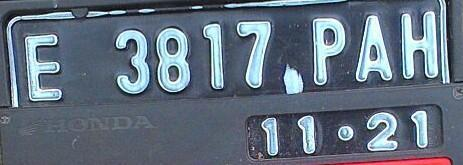1: (194, 18, 241, 93)
3: (106, 27, 152, 97)
7: (228, 18, 280, 92)
8: (152, 25, 198, 96)
A: (351, 13, 399, 82)
E: (22, 26, 68, 103)
H: (396, 9, 440, 86)
P: (308, 18, 354, 88)
